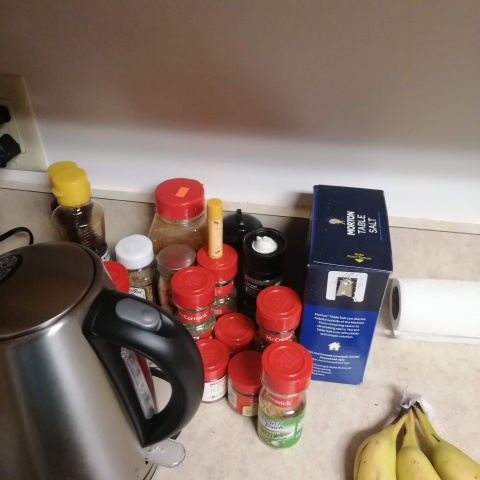chapstick: (207, 198, 224, 258)
